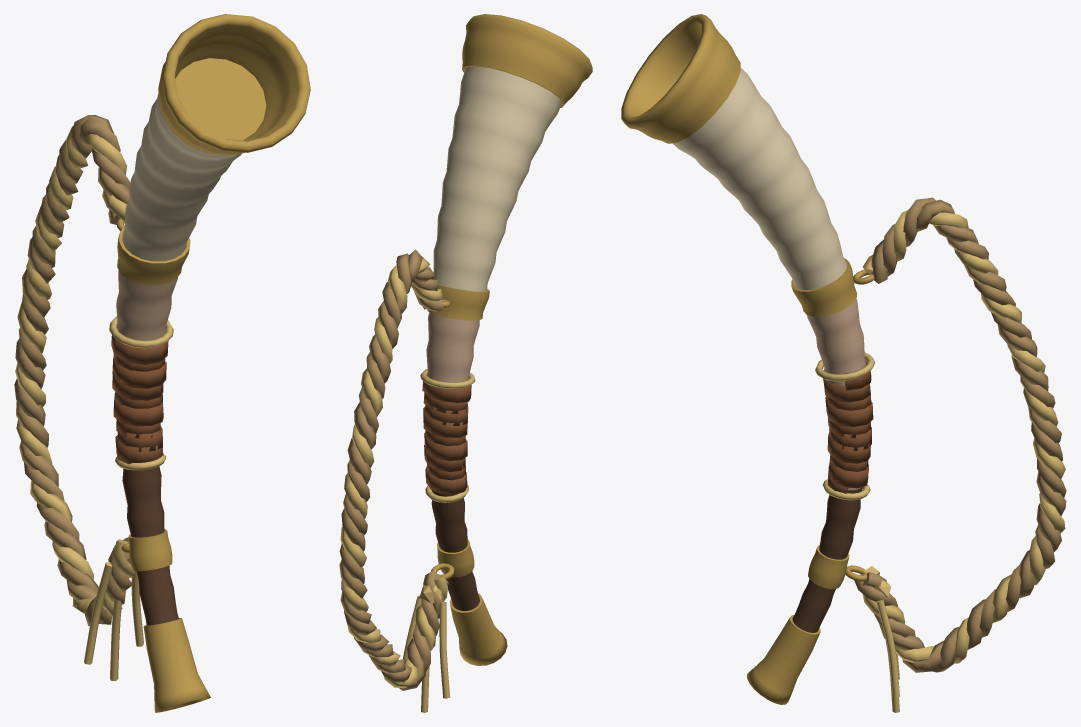
The model's file is tool_signalhorn.fbx.
3 renders of one model, left to right at view 1: azimuth 30°, elevation 25°; view 2: azimuth 150°, elevation 25°; view 3: azimuth 270°, elevation 25°, orthographic. The views are drawn at different scales.
Visible parts, largest first — view 1: Tool_SignalHorn_Brass, Tool_SignalHorn_Cord, Tool_SignalHorn_Horn, Tool_SignalHorn_GripWrap; view 2: Tool_SignalHorn_Horn, Tool_SignalHorn_Cord, Tool_SignalHorn_Brass, Tool_SignalHorn_GripWrap; view 3: Tool_SignalHorn_Horn, Tool_SignalHorn_Cord, Tool_SignalHorn_Brass, Tool_SignalHorn_GripWrap.
Part boxes in pixels (box(x1,y1,x2,y2)): Tool_SignalHorn_Brass: box(116, 14, 310, 712); Tool_SignalHorn_Cord: box(14, 115, 143, 680); Tool_SignalHorn_Horn: box(116, 92, 241, 625); Tool_SignalHorn_GripWrap: box(109, 316, 173, 470); Tool_SignalHorn_Horn: box(426, 66, 561, 610); Tool_SignalHorn_Cord: box(339, 249, 450, 712); Tool_SignalHorn_Brass: box(427, 14, 592, 665); Tool_SignalHorn_GripWrap: box(420, 369, 475, 502); Tool_SignalHorn_Horn: box(672, 67, 865, 632); Tool_SignalHorn_Cord: box(854, 197, 1066, 712); Tool_SignalHorn_Brass: box(621, 14, 874, 704); Tool_SignalHorn_GripWrap: box(815, 352, 875, 500).
Bounding box in the file's own units: 12.96 × 65.06 × 38.19.
